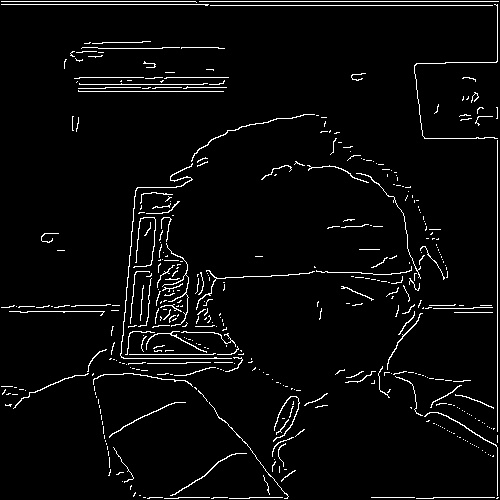mask: (205, 276, 424, 389)
